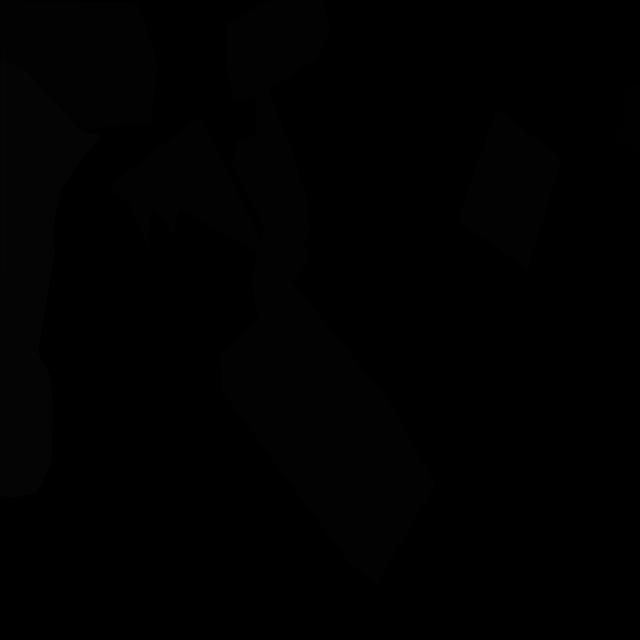cardboard: (108, 115, 436, 585), (457, 109, 562, 269), (232, 91, 310, 282), (225, 0, 330, 102)
rigid_plastic: (613, 84, 640, 157)
soft_plastic: (0, 58, 102, 497)
